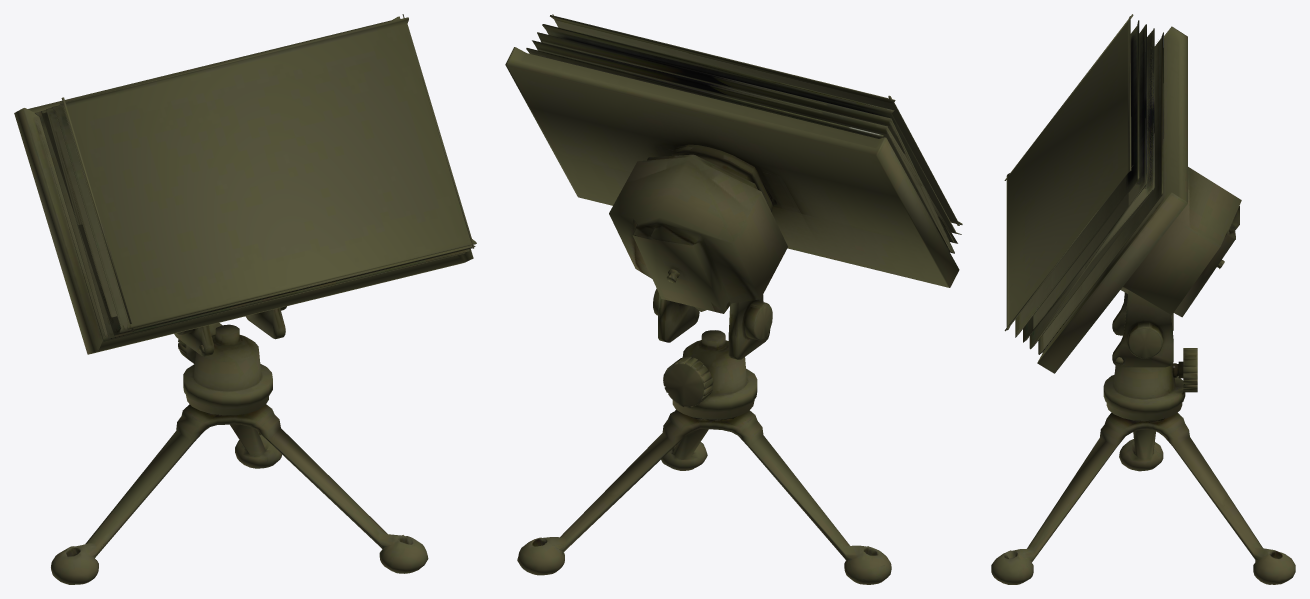
The model's file is radar.glb.
3 renders of one model, left to right at view 1: azimuth 30°, elevation 25°; view 2: azimuth 150°, elevation 25°; view 3: azimuth 270°, elevation 25°, orthographic. The views are drawn at different scales.
Parts seen in each view (by area): view 1: tripo_node_01c8e14a-138e-42ca-9db5-3051c6149d41; view 2: tripo_node_01c8e14a-138e-42ca-9db5-3051c6149d41; view 3: tripo_node_01c8e14a-138e-42ca-9db5-3051c6149d41.
Boxes of the visible parts, <box> form: tripo_node_01c8e14a-138e-42ca-9db5-3051c6149d41: <box>14,14,476,584</box>; tripo_node_01c8e14a-138e-42ca-9db5-3051c6149d41: <box>505,14,962,584</box>; tripo_node_01c8e14a-138e-42ca-9db5-3051c6149d41: <box>991,14,1295,584</box>.
Bounding box in the file's own units: 0.4022 × 0.5 × 0.3102.
1 material, 1 textured.
